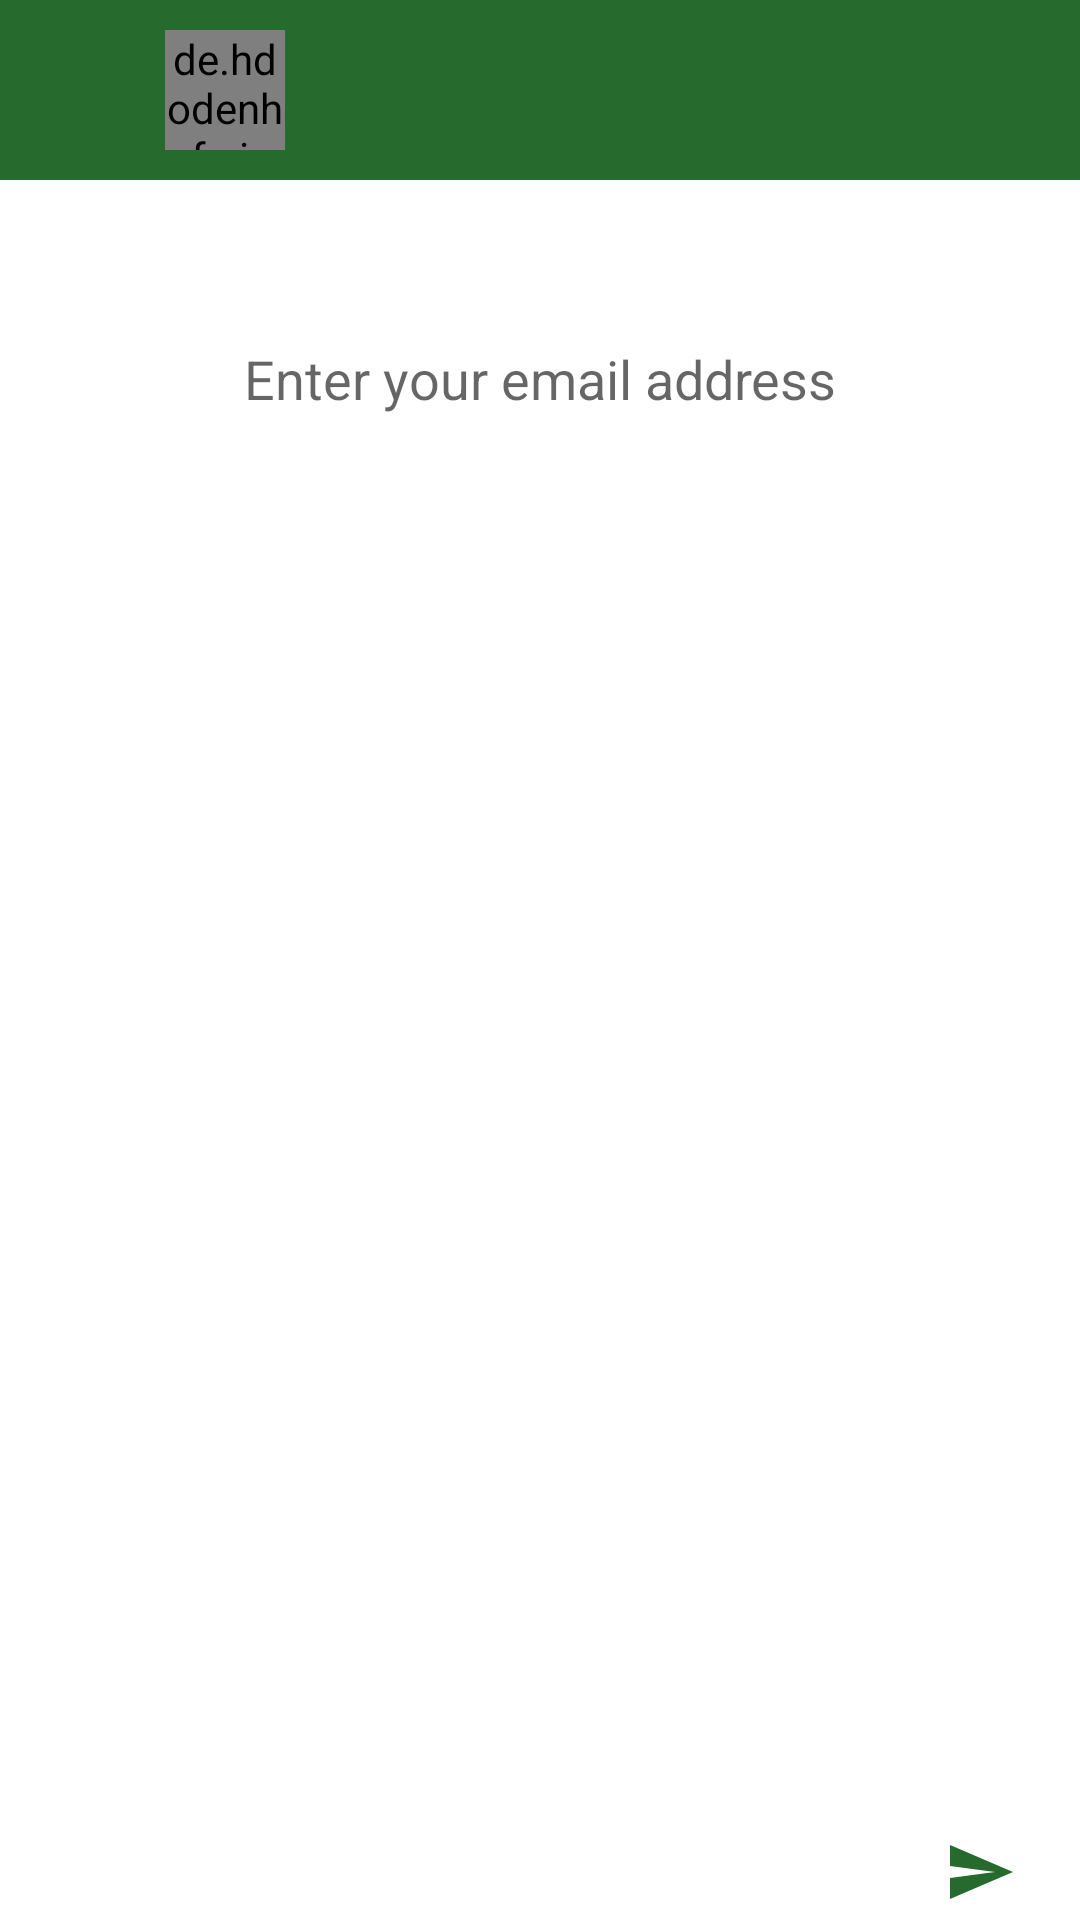

Screen size 1080*1920. Icon name, then its center in pixels as [x,y]:
send: [981,1872]
